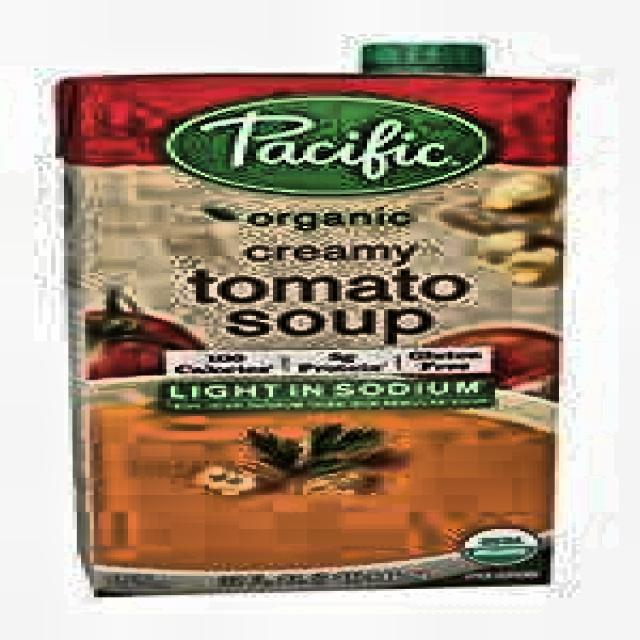cardboard: (55, 68, 572, 593)
